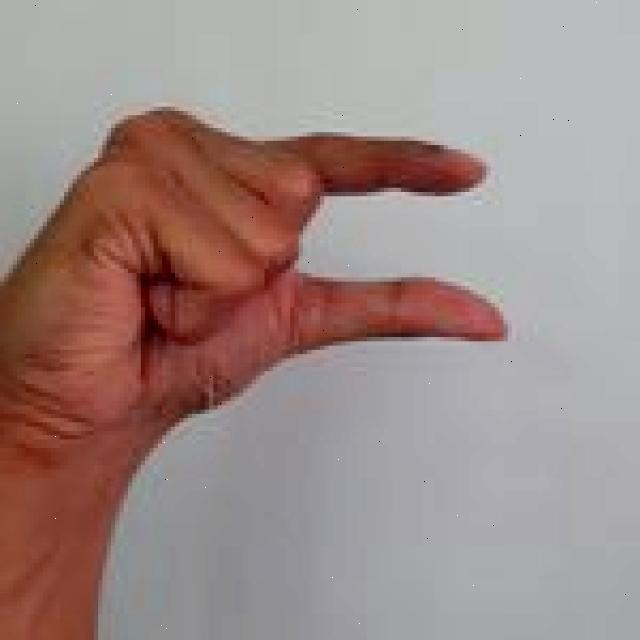G: (0, 105, 509, 640)
